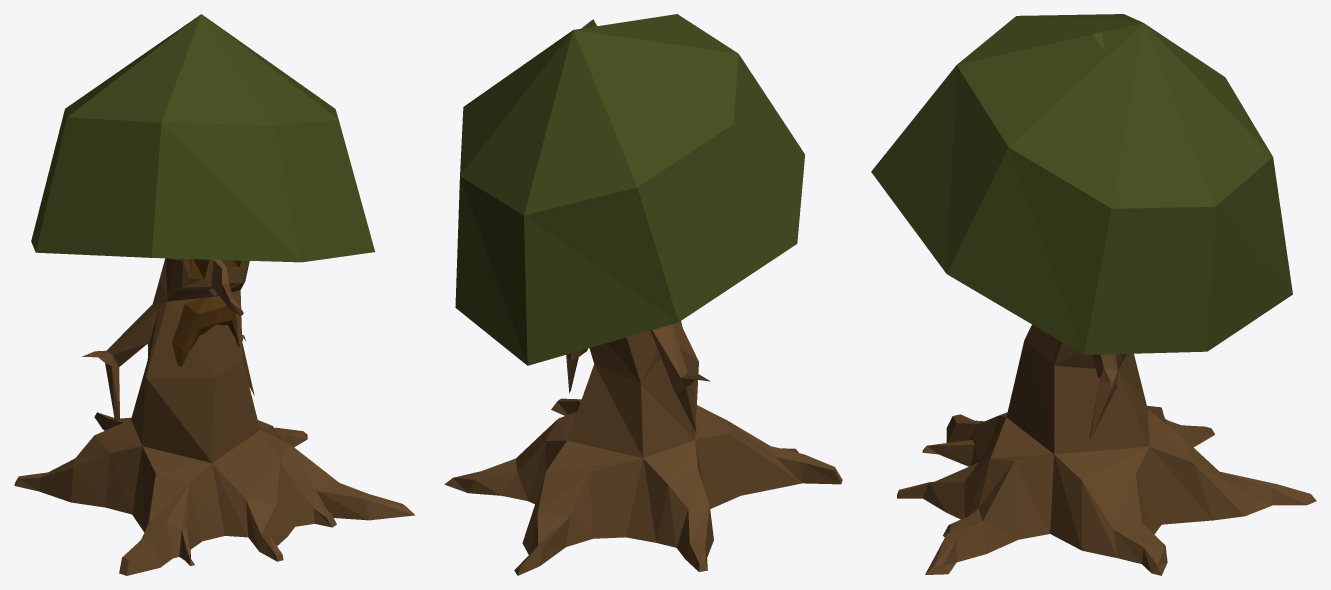
File: spirit-tree-poh.gltf
The picture shows the model from 3 angles, left to right: view 1: azimuth 30°, elevation 25°; view 2: azimuth 150°, elevation 25°; view 3: azimuth 270°, elevation 25°; orthographic projection. The views are drawn at different scales.
Bounding box in the file's own units: 205 × 273 × 224.
1 material, 1 textured.
